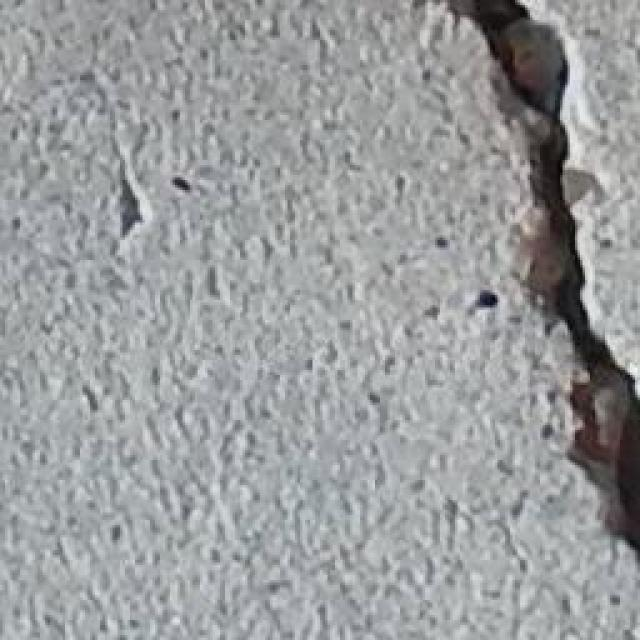concrete-crack: (442, 0, 640, 562)
